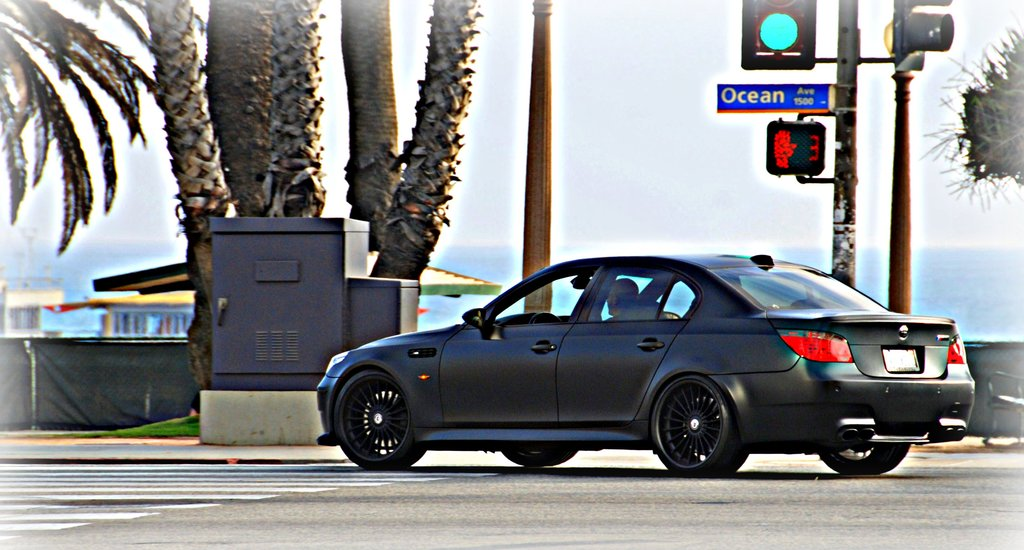Tree: (0, 0, 484, 416)
